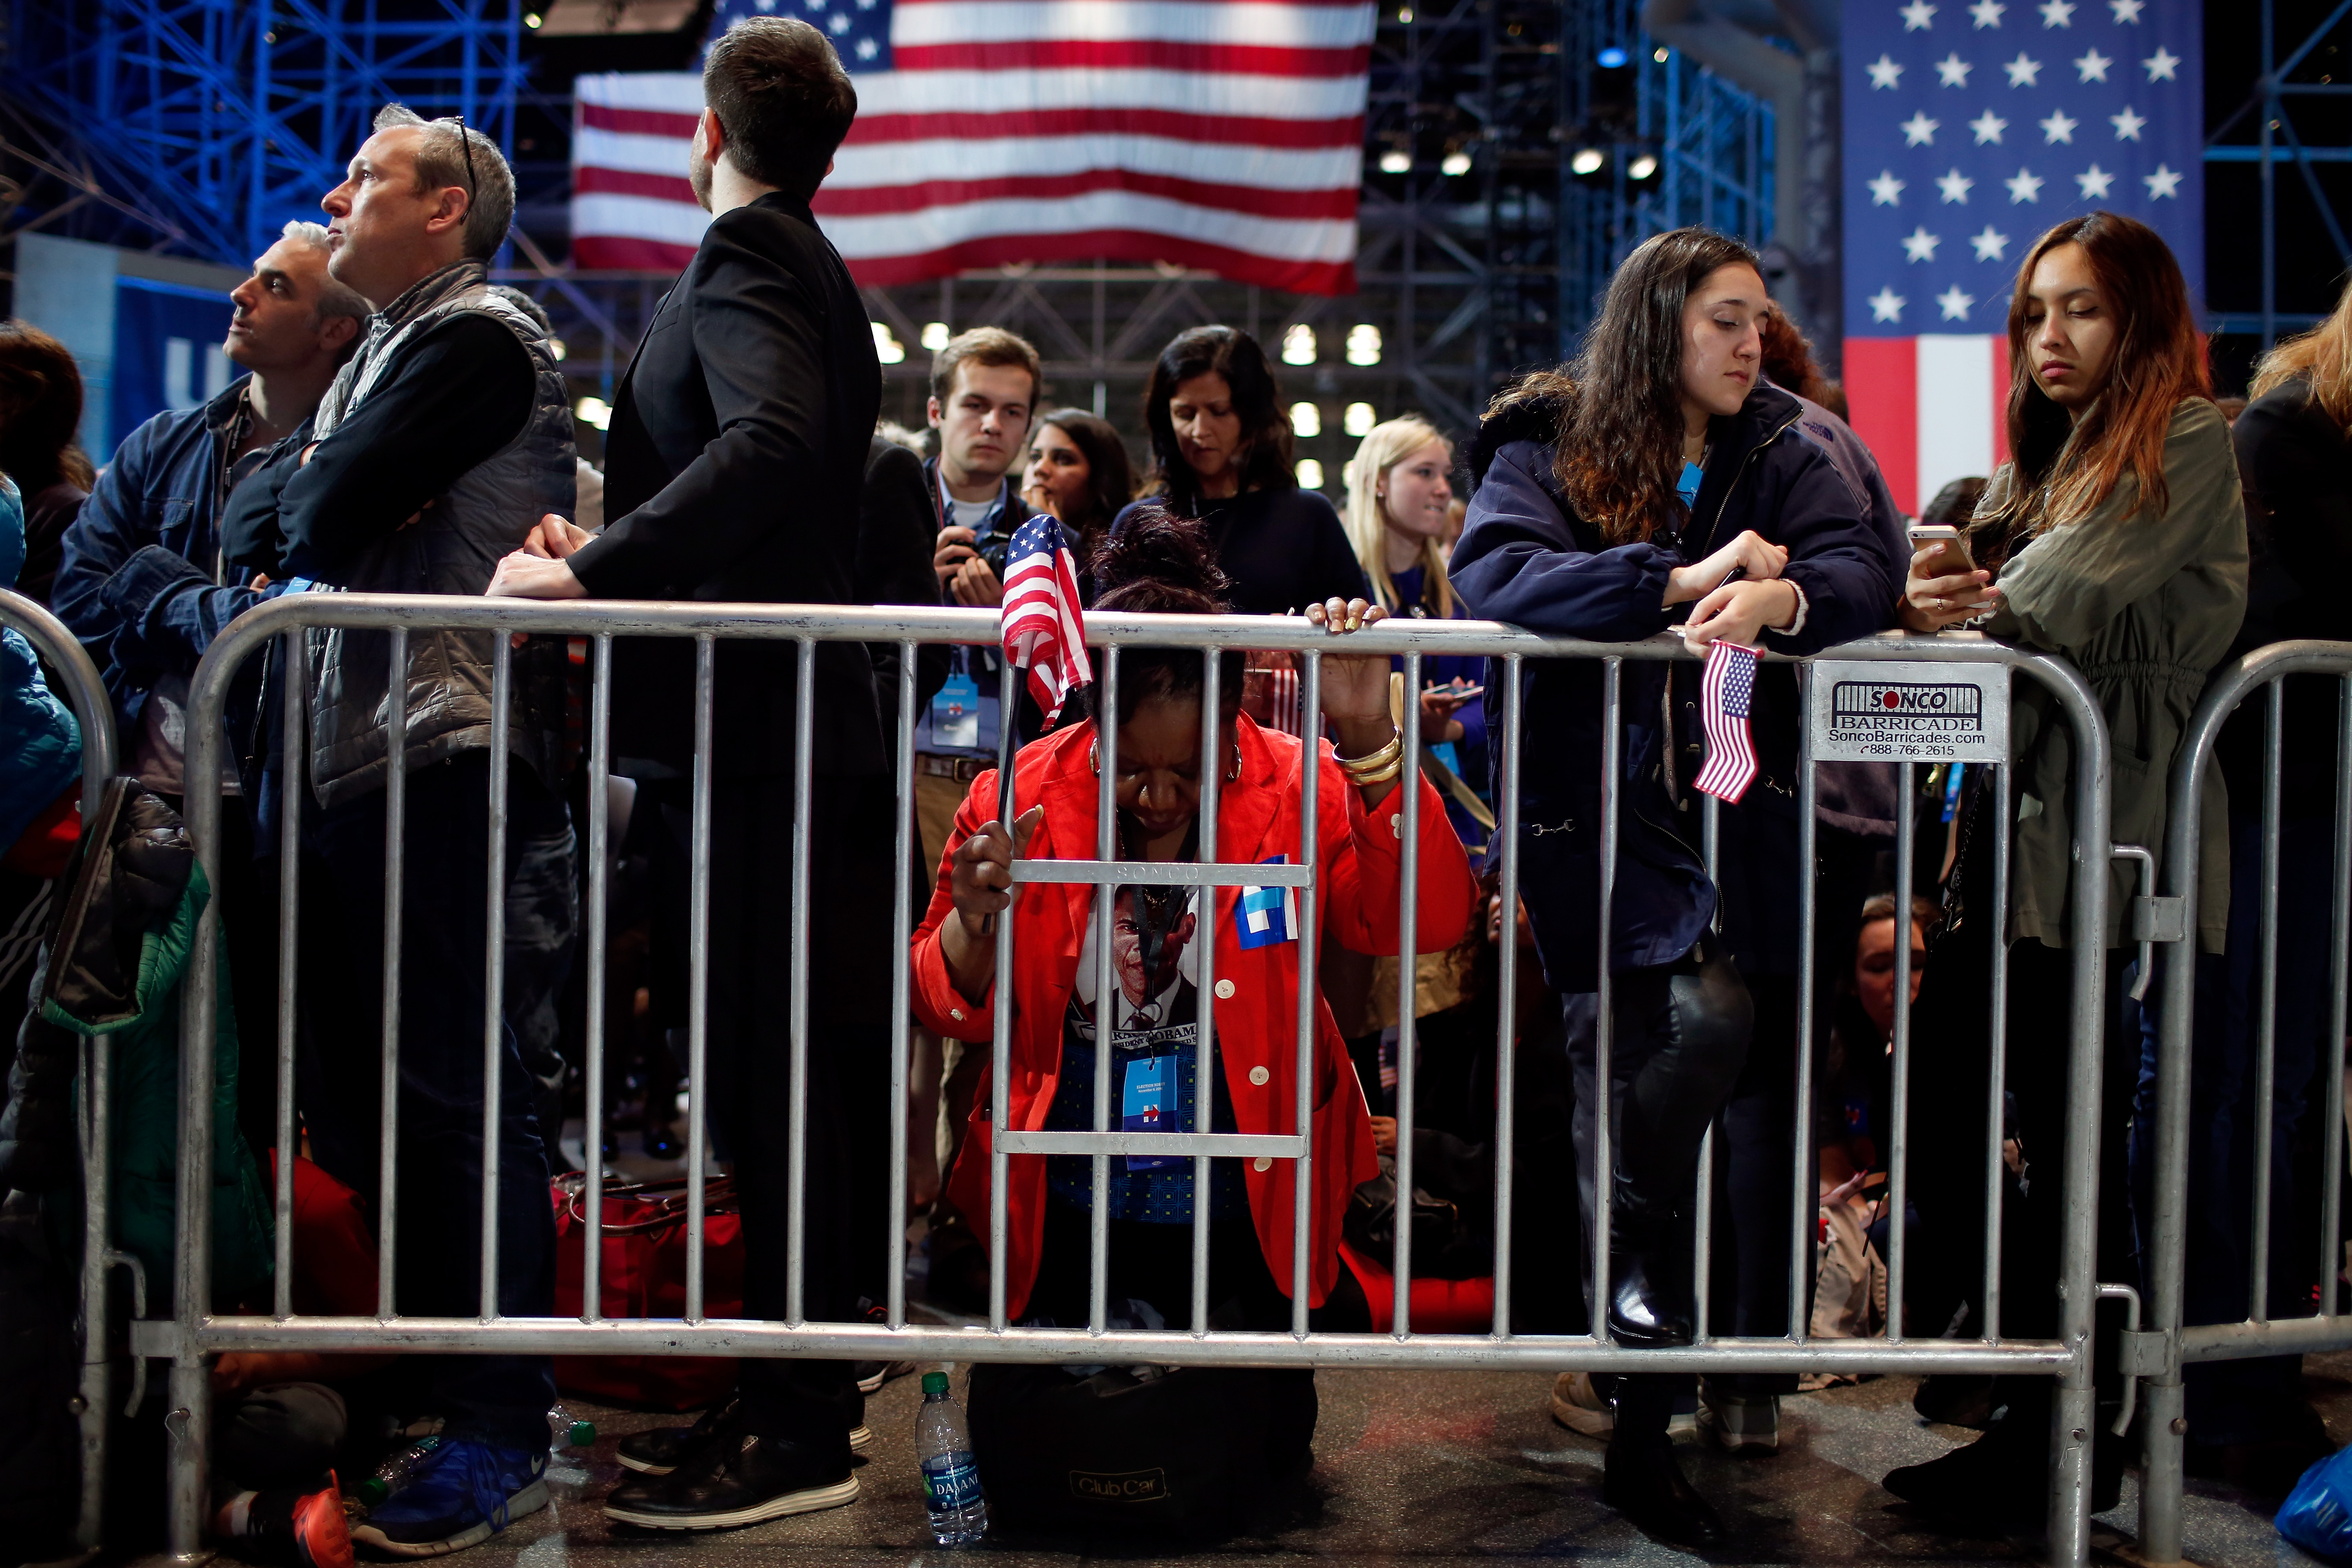sad: (1984, 236, 2135, 428), (1669, 249, 1791, 435), (1162, 372, 1258, 492)
